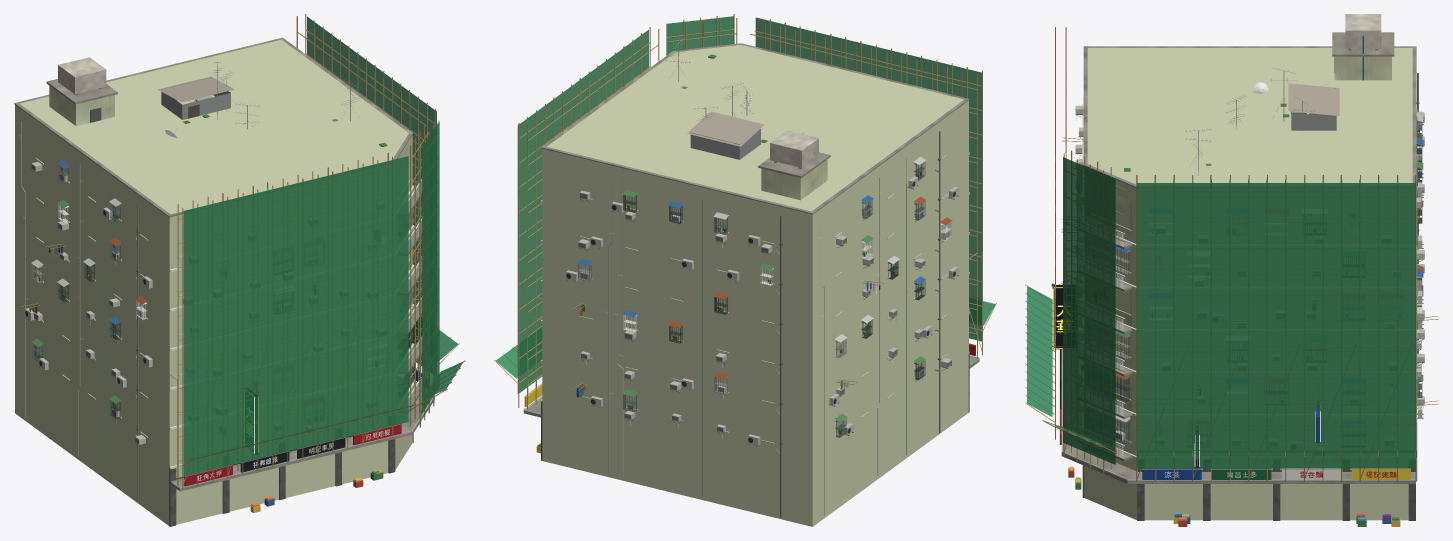
File: pastel-corner.glb
3 renders of one model, left to right at view 1: azimuth 30°, elevation 25°; view 2: azimuth 150°, elevation 25°; view 3: azimuth 270°, elevation 25°, orthographic. The views are drawn at different scales.
Visible parts, largest first — view 1: LOD_vc, Scaffold_net, Scaffold_bamboo, Building_metal, Building_slab, Building_vc, Building_board, Building_wall, Building_granite, Building_tank, Building_ac, Building_tin; view 2: LOD_vc, Scaffold_net, Scaffold_bamboo, Building_vc, Building_metal, Building_slab, Building_ac, Building_wall, Building_tank, Building_tin; view 3: Scaffold_net, LOD_vc, Building_slab, Building_metal, Building_vc, Building_board, Building_wall, Scaffold_bamboo, Building_granite, Building_ac, Building_tank, Building_tin.
Boxes of the visible parts, left/top/right/bottom form: LOD_vc: left=15, top=39, right=412, bottom=525; Scaffold_net: left=183, top=16, right=463, bottom=476; Scaffold_bamboo: left=169, top=14, right=465, bottom=489; Building_metal: left=25, top=62, right=434, bottom=488; Building_slab: left=14, top=37, right=434, bottom=491; Building_vc: left=19, top=76, right=421, bottom=512; Building_board: left=184, top=370, right=421, bottom=486; Building_wall: left=36, top=86, right=411, bottom=454; Building_granite: left=169, top=433, right=413, bottom=526; Building_tank: left=58, top=57, right=106, bottom=94; Building_ac: left=25, top=162, right=412, bottom=444; Building_tin: left=161, top=77, right=230, bottom=119; LOD_vc: left=542, top=45, right=968, bottom=526; Scaffold_net: left=496, top=16, right=995, bottom=393; Scaffold_bamboo: left=494, top=14, right=996, bottom=409; Building_vc: left=536, top=54, right=952, bottom=517; Building_metal: left=523, top=38, right=979, bottom=446; Building_slab: left=523, top=43, right=979, bottom=417; Building_ac: left=566, top=176, right=958, bottom=445; Building_wall: left=579, top=154, right=947, bottom=444; Building_tank: left=770, top=130, right=818, bottom=167; Building_tin: left=690, top=129, right=760, bottom=159; Scaffold_net: left=1027, top=157, right=1415, bottom=468; LOD_vc: left=1084, top=48, right=1412, bottom=520; Building_slab: left=1061, top=32, right=1416, bottom=483; Building_metal: left=1051, top=57, right=1424, bottom=480; Building_vc: left=1068, top=35, right=1423, bottom=526; Building_board: left=1053, top=285, right=1410, bottom=479; Building_wall: left=1083, top=56, right=1417, bottom=453; Scaffold_bamboo: left=1025, top=27, right=1416, bottom=481; Building_granite: left=1082, top=465, right=1415, bottom=520; Building_ac: left=1076, top=105, right=1424, bottom=440; Building_tank: left=1345, top=14, right=1381, bottom=48; Building_tin: left=1291, top=88, right=1336, bottom=130.
Bounding box in the file's own units: 27.42 × 28.04 × 27.42.
Materials: 22 (9 with a texture image).
